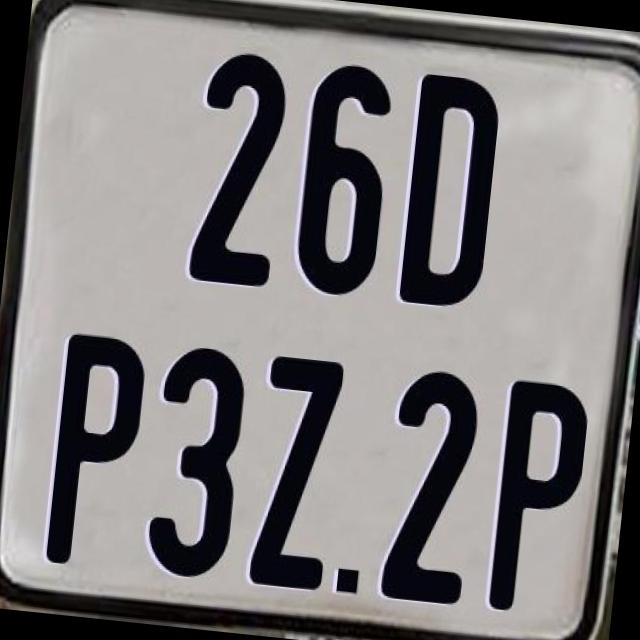2: (378, 364, 487, 608), (188, 45, 292, 289)
3: (144, 344, 255, 590)
6: (292, 56, 398, 294)
D: (396, 68, 502, 312)
P: (44, 329, 154, 576), (484, 376, 594, 622)
Z: (245, 350, 347, 594)
